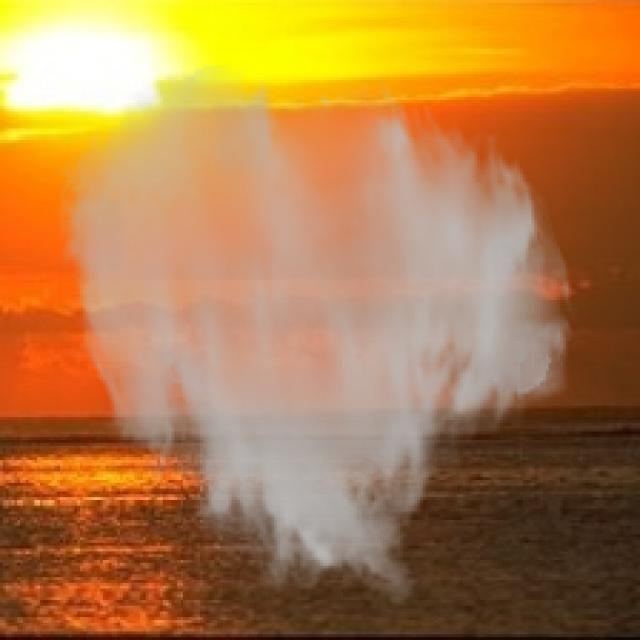Smoke: (54, 60, 577, 609)
